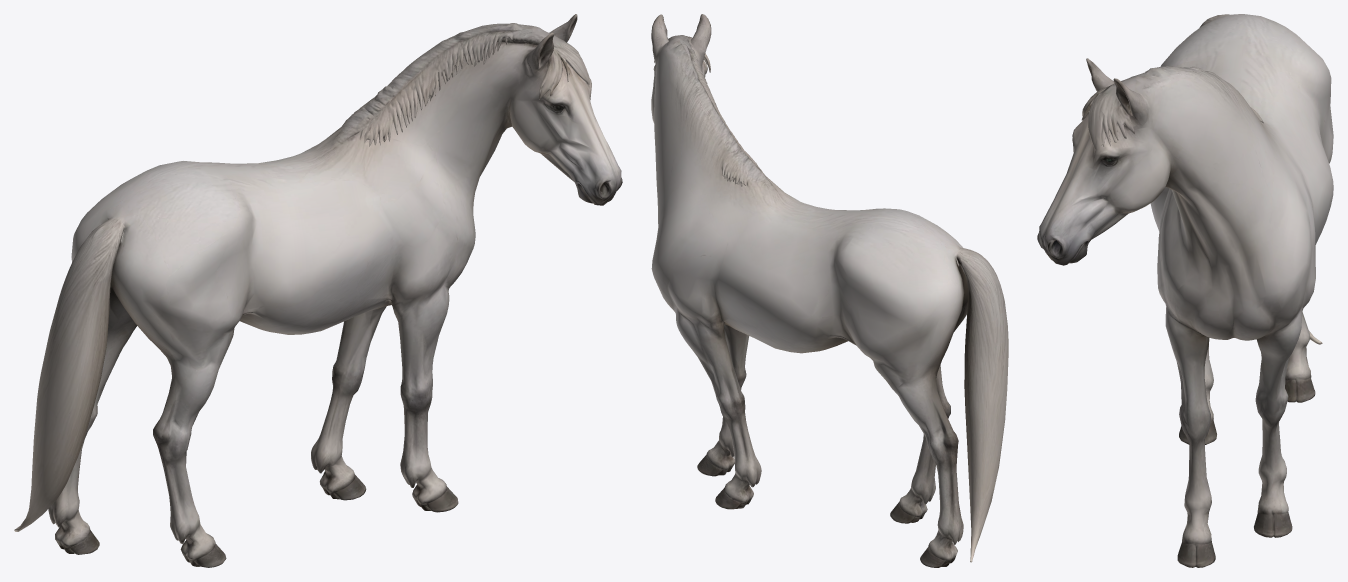
The picture shows the model from 3 angles, left to right: view 1: azimuth 30°, elevation 25°; view 2: azimuth 150°, elevation 25°; view 3: azimuth 270°, elevation 25°; orthographic projection. The views are drawn at different scales.
Visible parts, largest first — view 1: node_0; view 2: node_0; view 3: node_0.
Boxes of the visible parts, <box> form: node_0: <box>14,14,622,567</box>; node_0: <box>651,14,1008,567</box>; node_0: <box>1037,14,1333,567</box>.
Bounding box in the file's own units: 0.8578 × 0.828 × 0.4159.
1 material, 1 textured.
